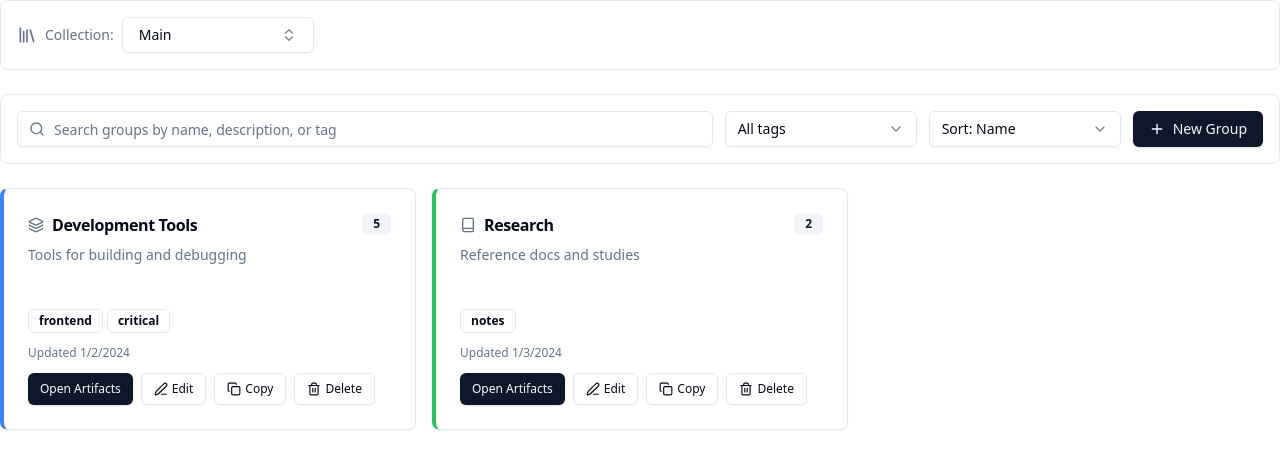
Scenario: GroupsPageClient › shows no matching groups state when search does not match
This screenshot has width=1280, height=475.
Type "missing-group" into the field labelled "Search groups by name, description, or tag".
click(365, 129); type("missing-group")  # box [17,111,713,147]
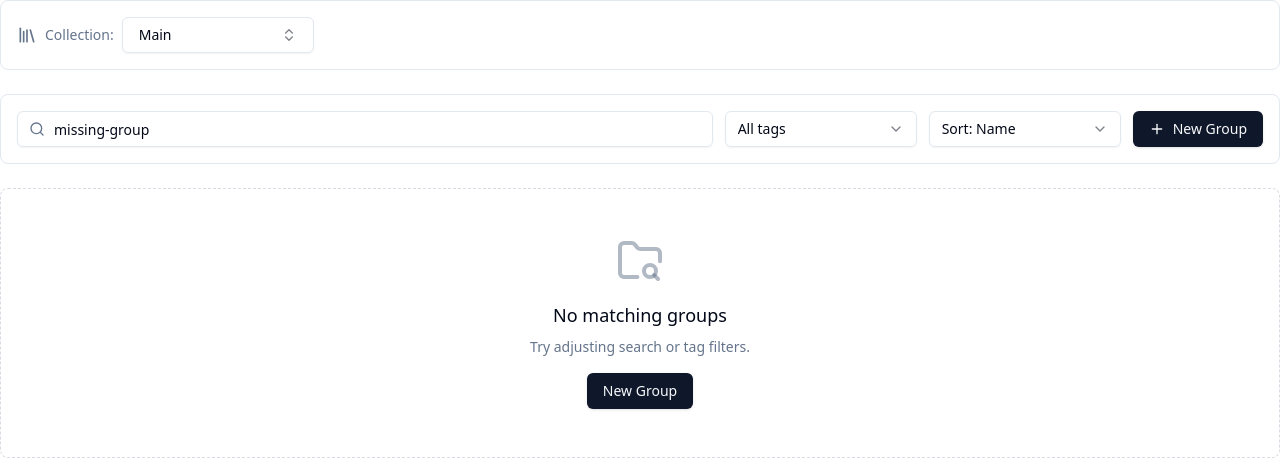
Result: the heading "No matching groups" is shown at [553,301,727,329]
